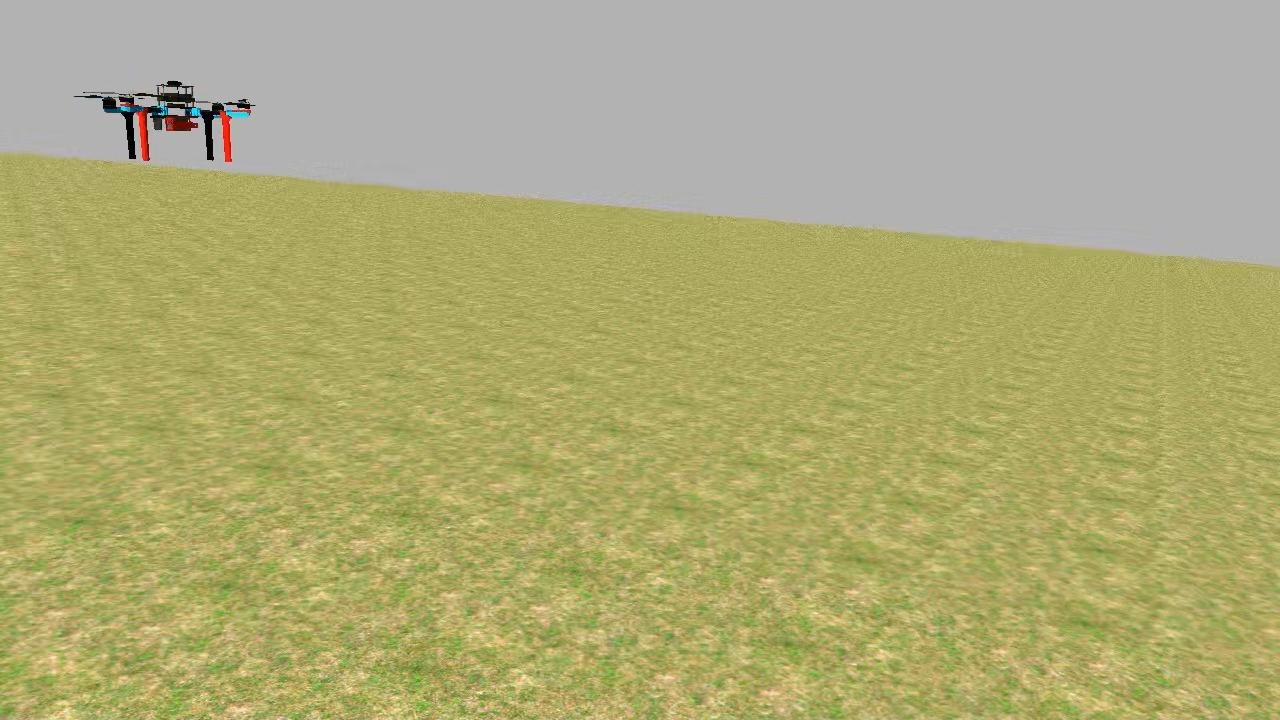UAV: (90, 70, 260, 174)
